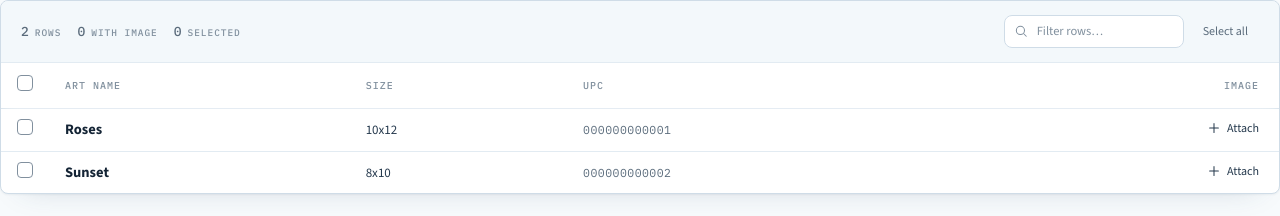
Test: DataTable › filters rows by search query
Type "roses" into the field with placeholder "Filter rows…" at (1094, 31), box 1004,15 -> 1184,48
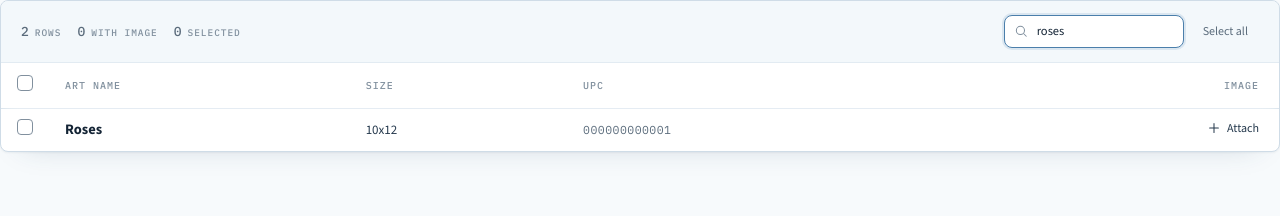
Expected: the text "Roses" is shown, 49,109 -> 350,151
Result: the text "Sunset" is gone
